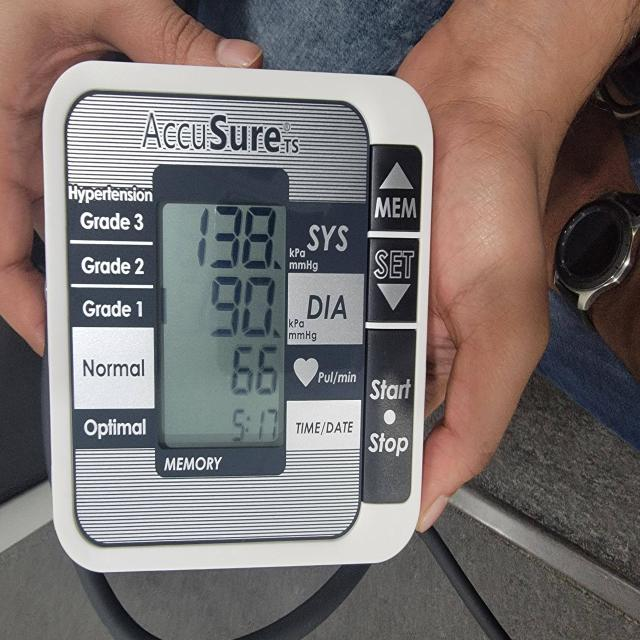bp: (40, 61, 432, 579)
